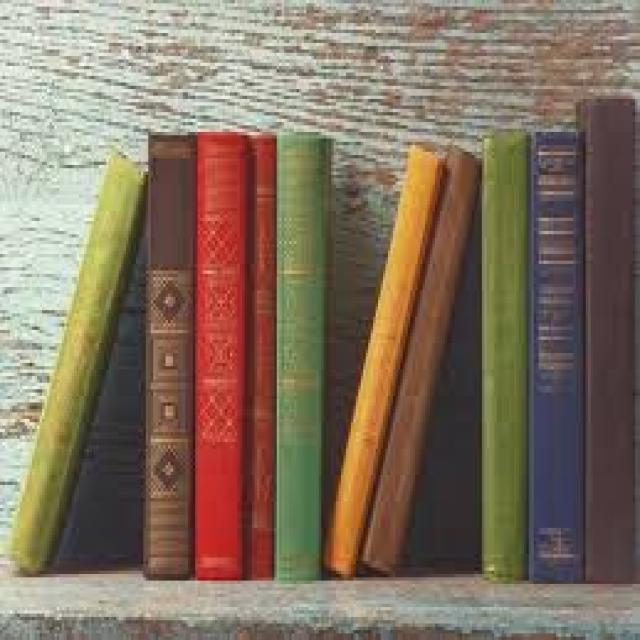paper: (12, 149, 146, 578), (322, 142, 443, 581), (364, 145, 480, 581), (571, 96, 637, 581), (526, 125, 581, 584), (274, 129, 329, 581), (195, 129, 247, 577), (477, 129, 526, 577), (146, 129, 193, 571), (247, 129, 274, 577)
